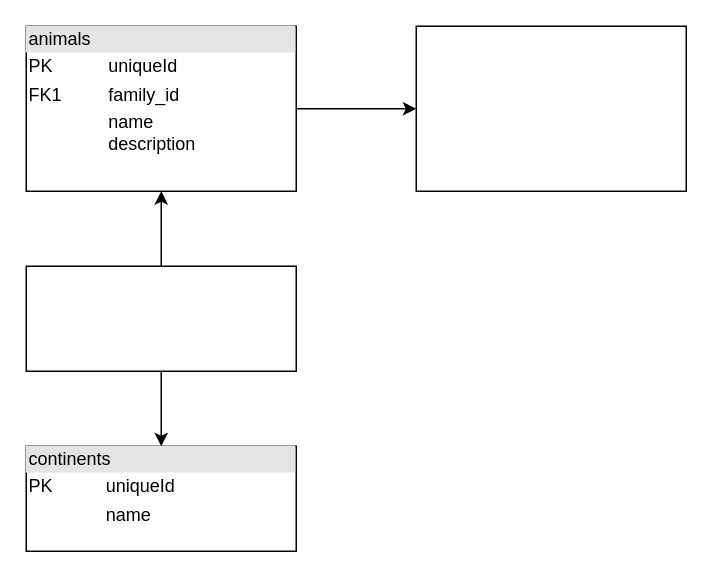
The diagram is 713 pixels wide and 578 high, and some of its shapes have lost their labels. The centre of each missing label's shape, as x and y in pixels:
"animal_continent FK1 animal_id FK2 continent_id" belongs at pixel 160 318.
"families PK uniqueId name description" belongs at pixel 550 108.
